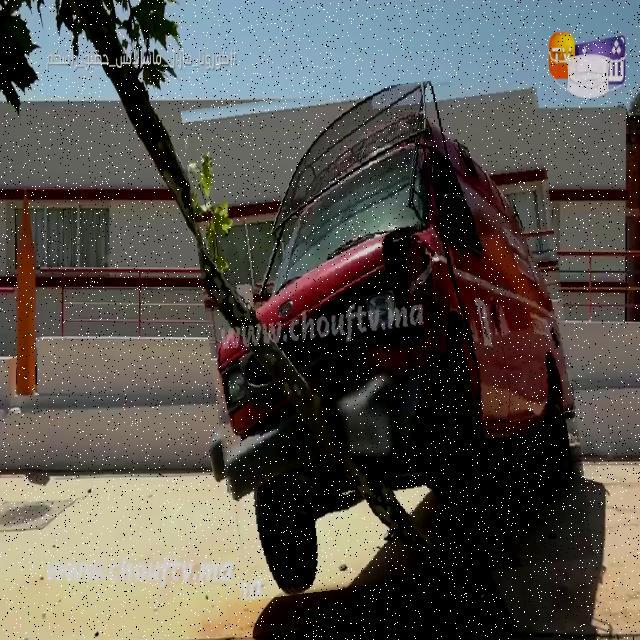ambulance: (195, 78, 580, 592)
